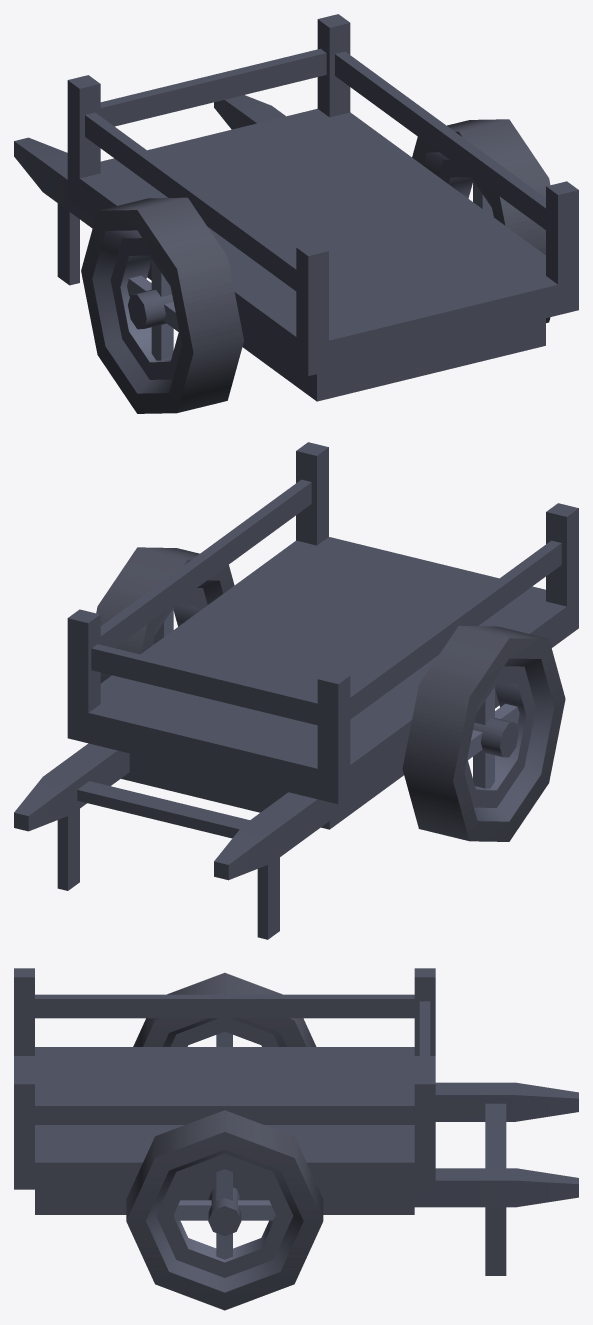
The model's file is cart.glb.
3 renders of one model, top to bottom at view 1: azimuth 30°, elevation 25°; view 2: azimuth 150°, elevation 25°; view 3: azimuth 270°, elevation 25°, orthographic. The views are drawn at different scales.
Visible parts, largest first — view 1: cart, Group2, Group; view 2: cart, Group2, Group; view 3: cart, Group, Group2.
Part boxes in pixels (left/top/right/bottom): cart: left=14, top=14, right=578, bottom=401; Group2: left=81, top=197, right=243, bottom=413; Group: left=412, top=119, right=550, bottom=322; cart: left=14, top=442, right=578, bottom=939; Group2: left=402, top=625, right=565, bottom=841; Group: left=96, top=547, right=234, bottom=683; cart: left=14, top=968, right=578, bottom=1275; Group: left=126, top=1110, right=323, bottom=1310; Group2: left=133, top=972, right=316, bottom=1046.
Bounding box in the file's own units: 0.893 × 0.5355 × 1.34.
1 material, 1 textured.
